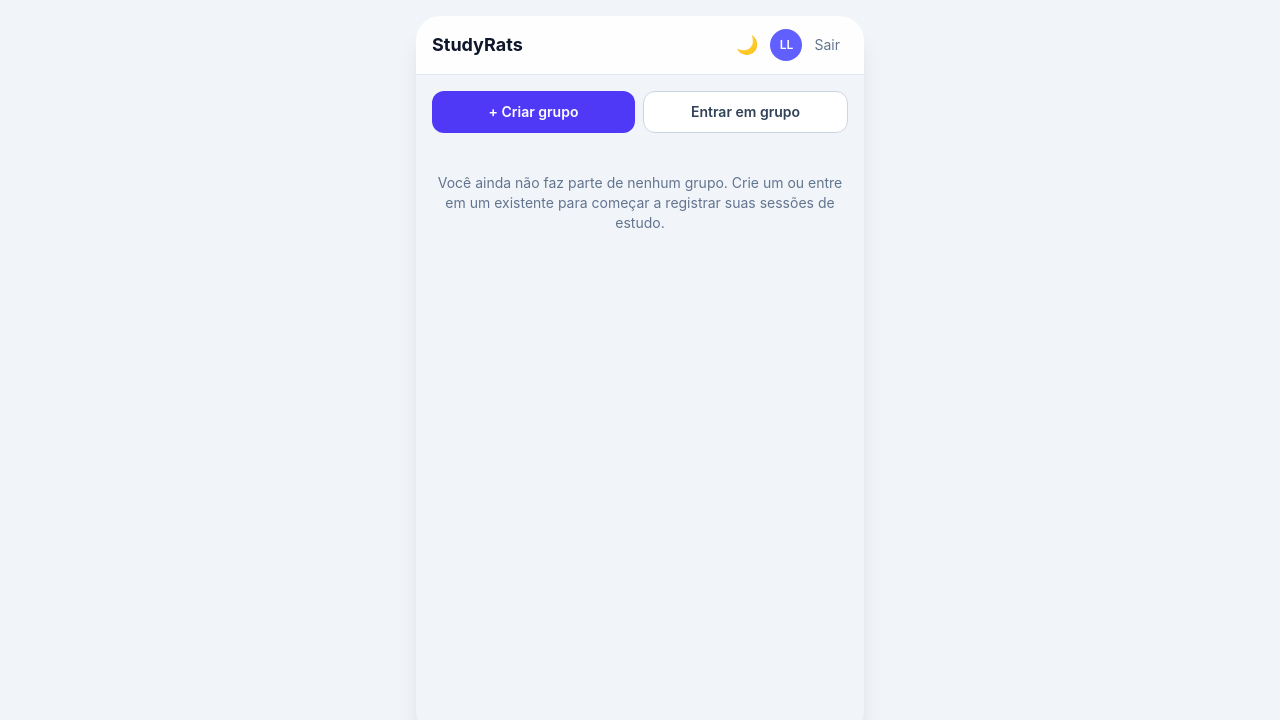
Test: fluxo completo: criar grupo, publicar sessão e ver no feed › mostra o usuário atual no ranking do grupo após publicar uma sessão
Click the button "+ Criar grupo".
click(534, 112)  # box [432,91,635,133]
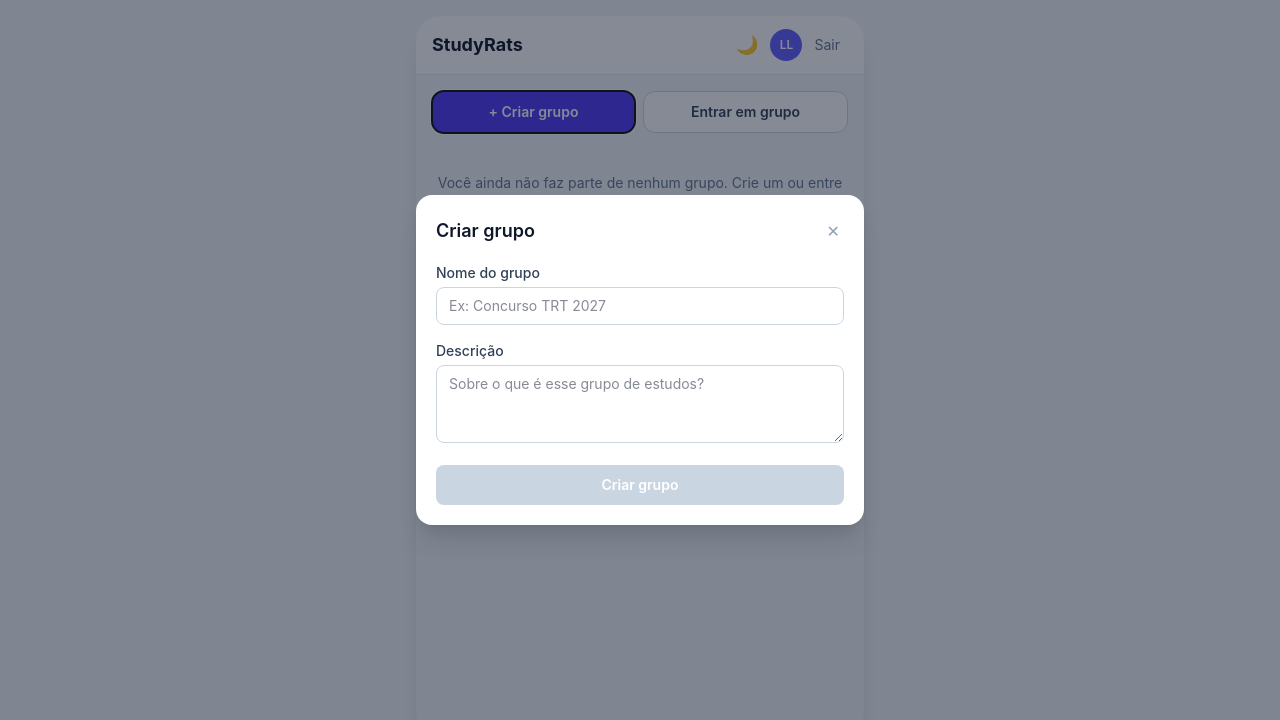
Type "Grupo Ranking" into the field labelled "Nome do grupo".
click(640, 306); type("Grupo Ranking")  # box [436,287,844,325]
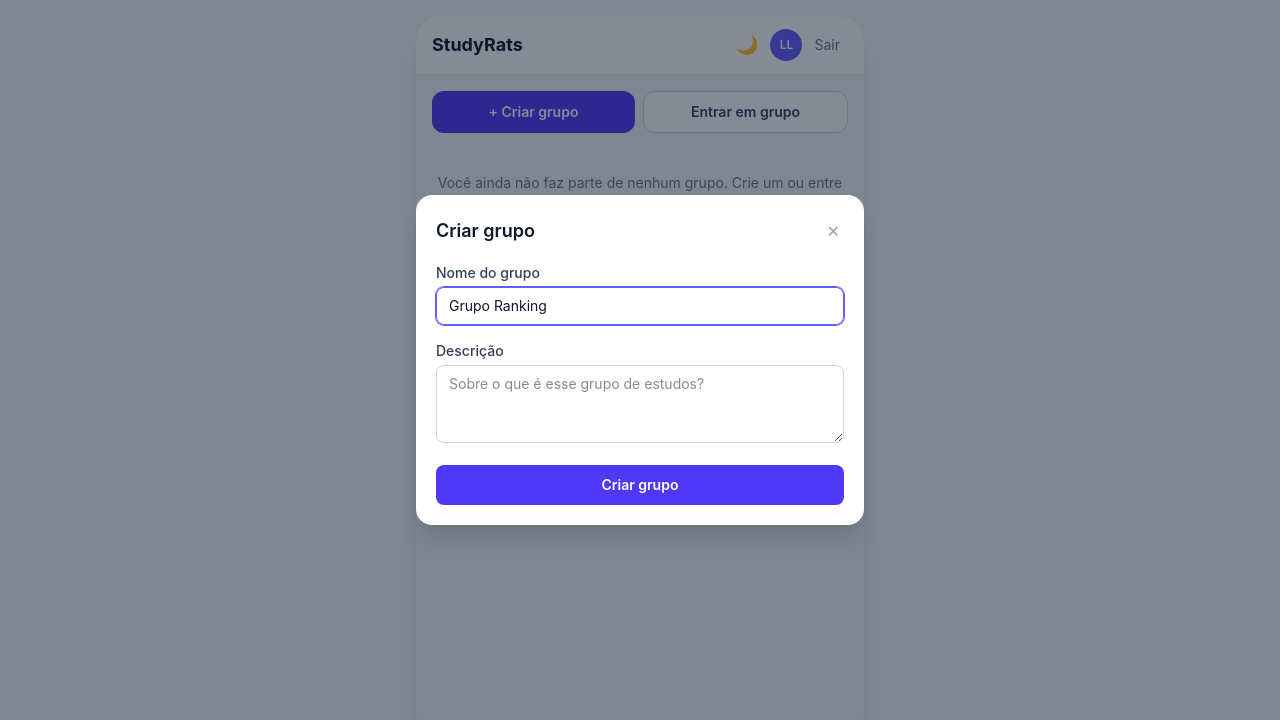
Click the button "Criar grupo".
click(640, 485)  # box [436,465,844,505]
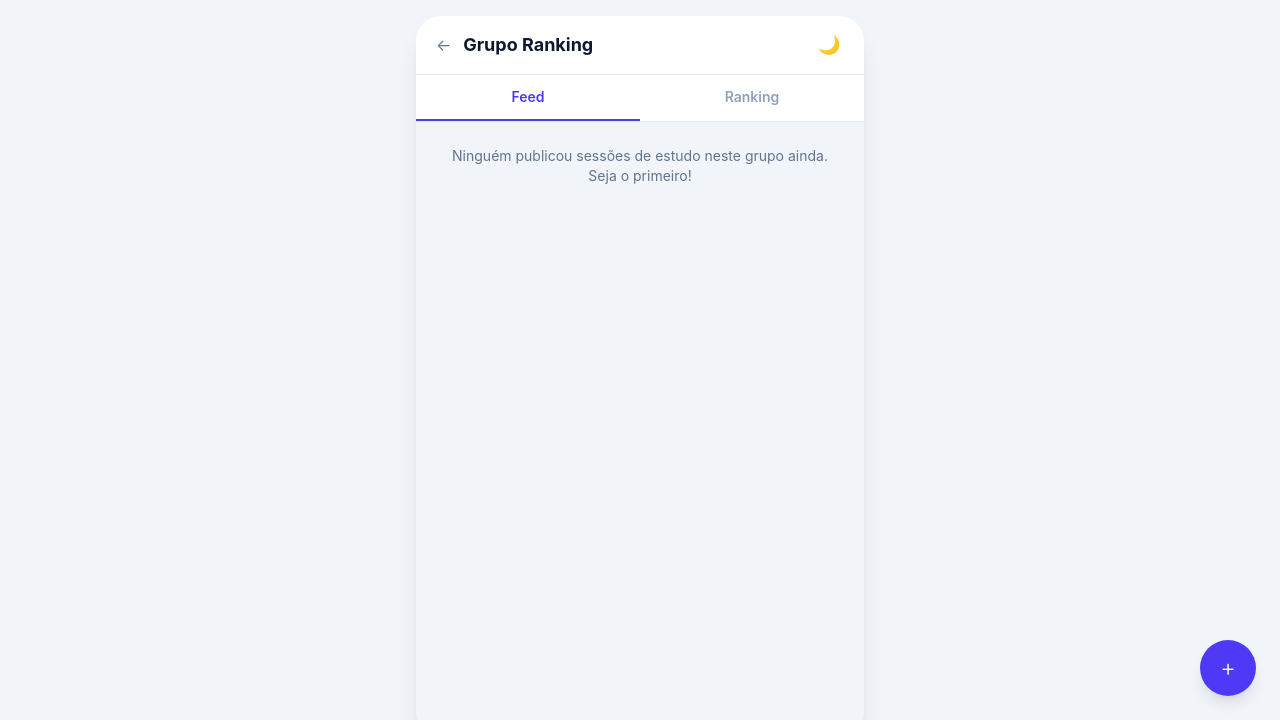
Expected: the heading "Grupo Ranking" is shown, [463,34,593,55]
Click the button named "Publicar sessão de estudo".
click(1228, 668)  # box [1200,640,1256,696]
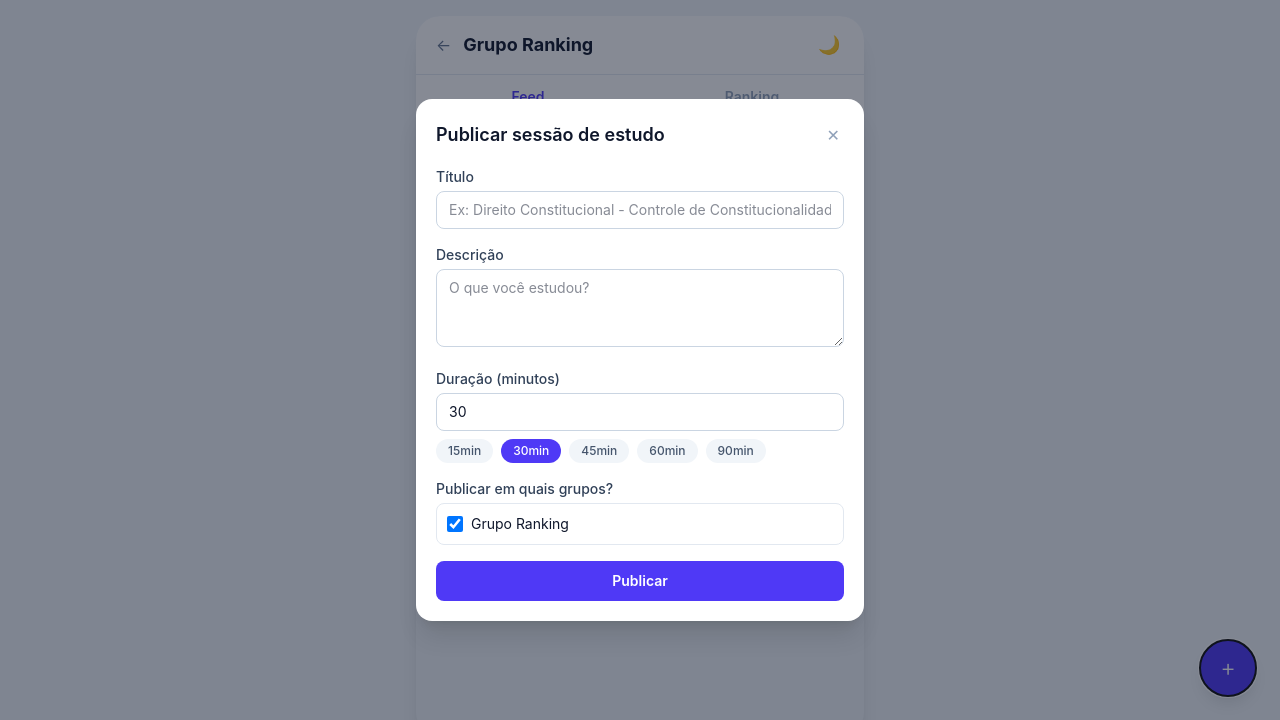
Type "Sessão para ranking" into the field labelled "Título".
click(640, 210); type("Sessão para ranking")  # box [436,191,844,229]
Click the button "Publicar".
click(640, 581)  # box [436,561,844,601]
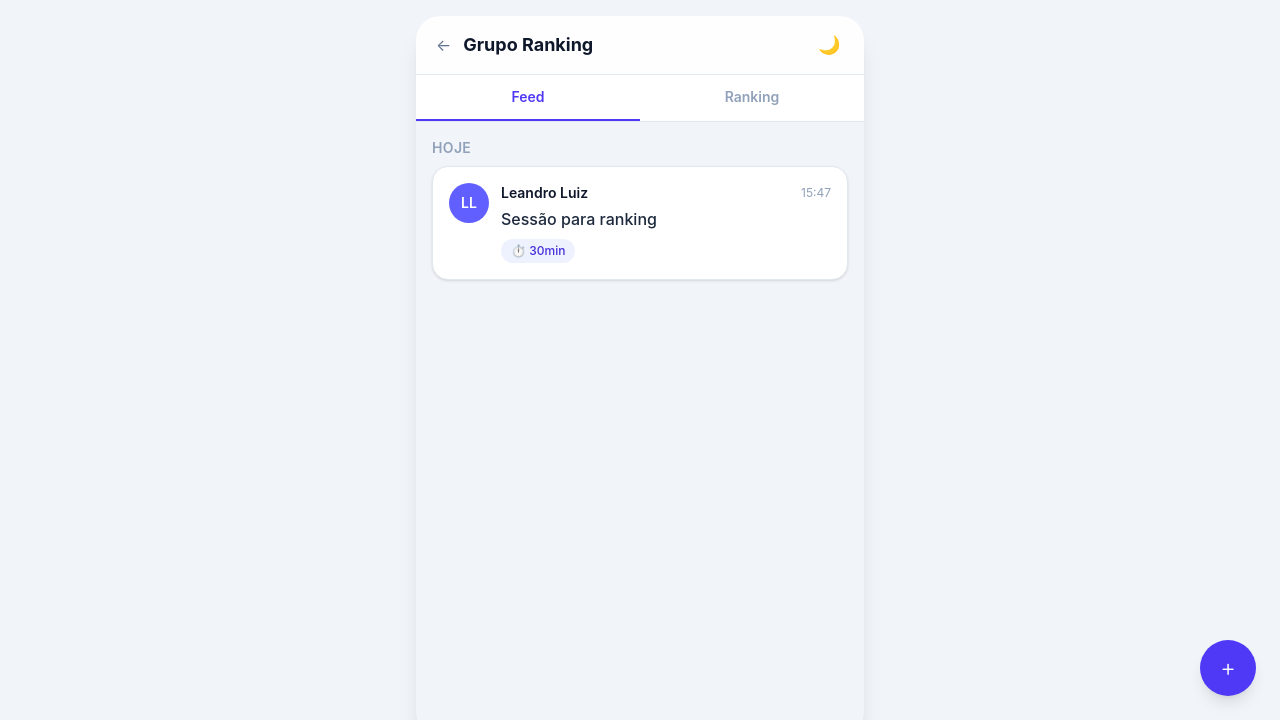
Expected: the text "Sessão para ranking" is shown, [501,209,657,229]
Click the button "Ranking".
click(752, 98)  # box [640,75,864,121]
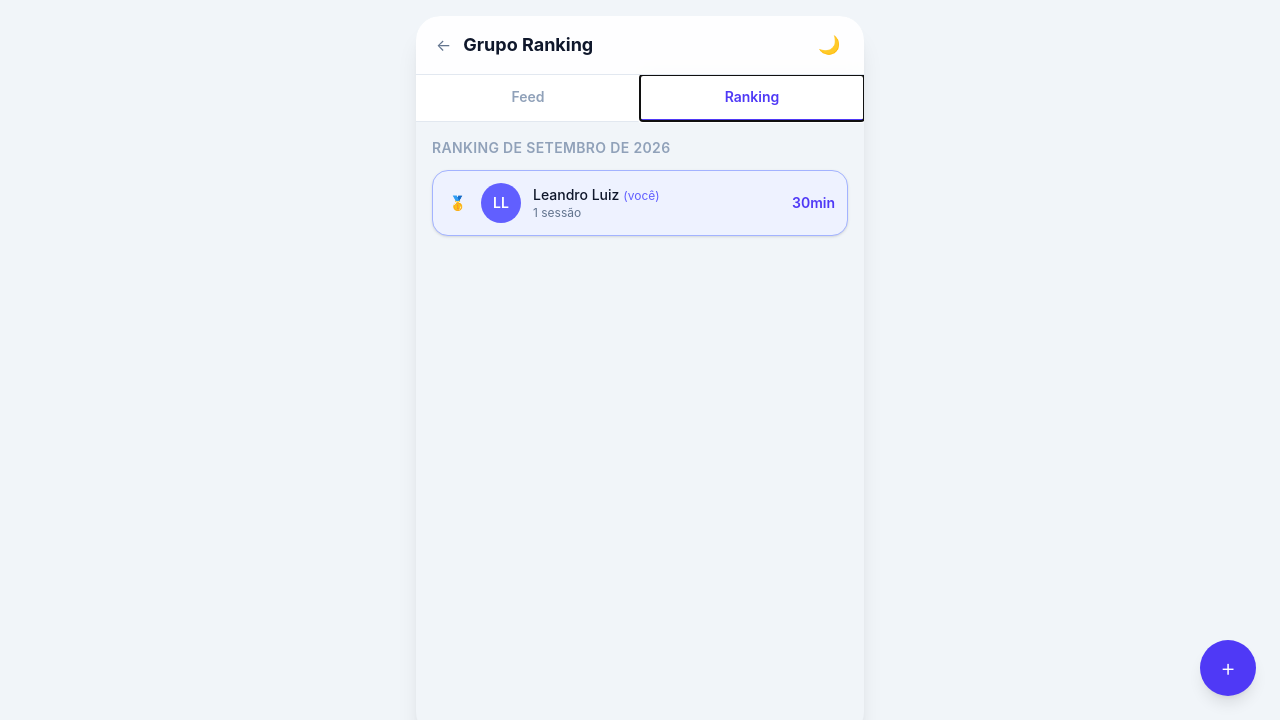
Expected: the text "Leandro Luiz" is shown, [533,186,619,203]
Expected: the text "(você)" is shown, [623,188,660,203]
